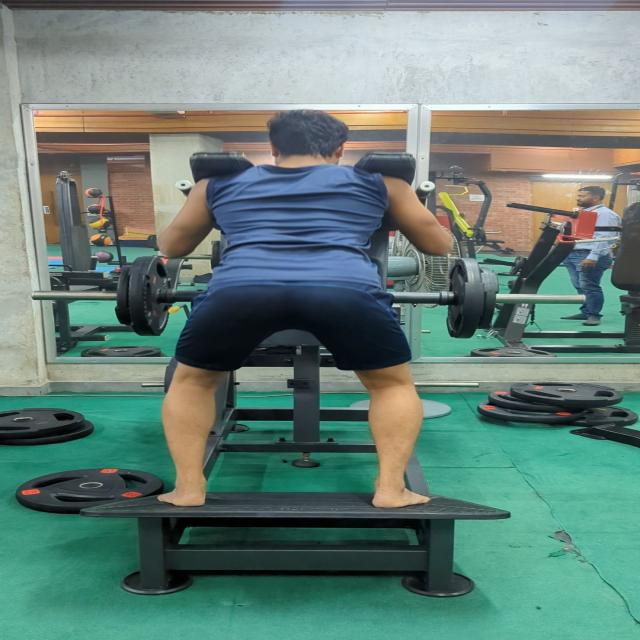Normal_SquatsWithBarbell: (97, 87, 476, 523)
